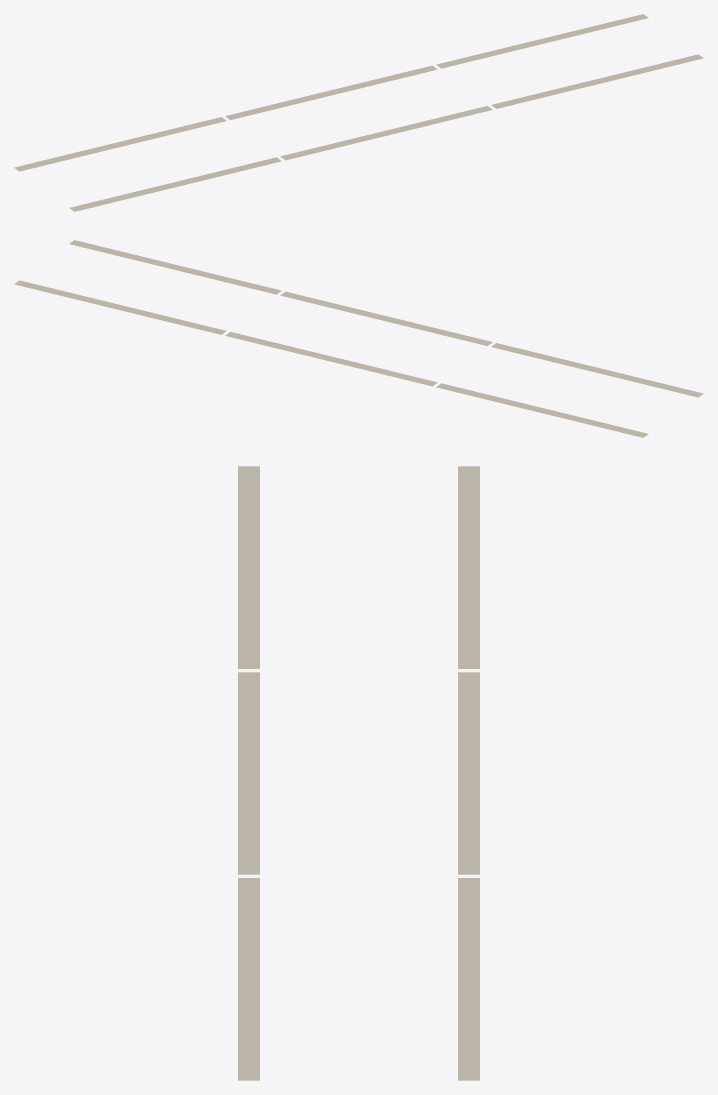
File: train_lights.glb
The picture shows the model from 3 angles, top to bottom: view 1: azimuth 30°, elevation 25°; view 2: azimuth 150°, elevation 25°; view 3: azimuth 270°, elevation 25°; orthographic projection. The views are drawn at different scales.
Visible parts, largest first — view 1: train_lights; view 2: train_lights; view 3: train_lights.
Boxes of the visible parts, box(x1,y1,x2,y2) form: train_lights: box(14, 14, 703, 211); train_lights: box(14, 240, 703, 437); train_lights: box(238, 466, 479, 1080).
Bounding box in the file's own units: 7.26 × 0 × 1.21.
